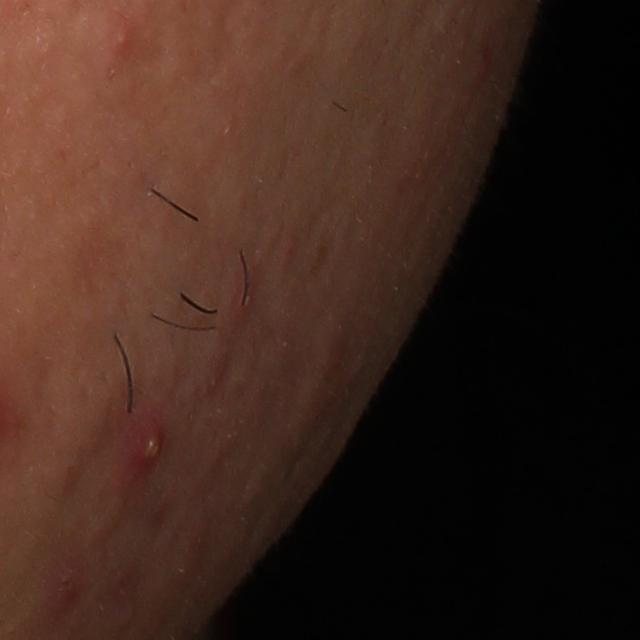papule: (52, 569, 87, 615), (110, 23, 136, 53)
pustule: (126, 411, 170, 468)
